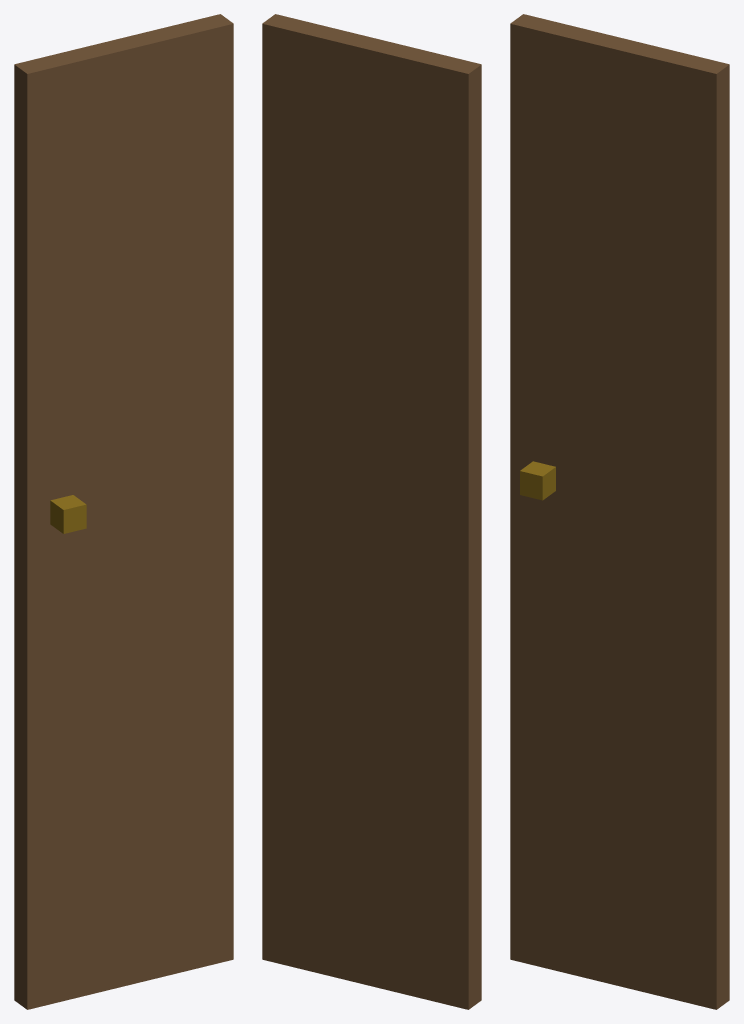
File: Wardrobe00-Door2.gltf
3 renders of one model, left to right at view 1: azimuth 30°, elevation 25°; view 2: azimuth 150°, elevation 25°; view 3: azimuth 330°, elevation 25°, orthographic.
Parts seen in each view (by area): view 1: Door.2; view 2: Door.2; view 3: Door.2.
Boxes of the visible parts, x1=… form: Door.2: x1=14, y1=14, x2=233, y2=1009; Door.2: x1=262, y1=14, x2=481, y2=1009; Door.2: x1=510, y1=14, x2=729, y2=1009.
Bounding box in the file's own units: 9 × 39 × 2.
